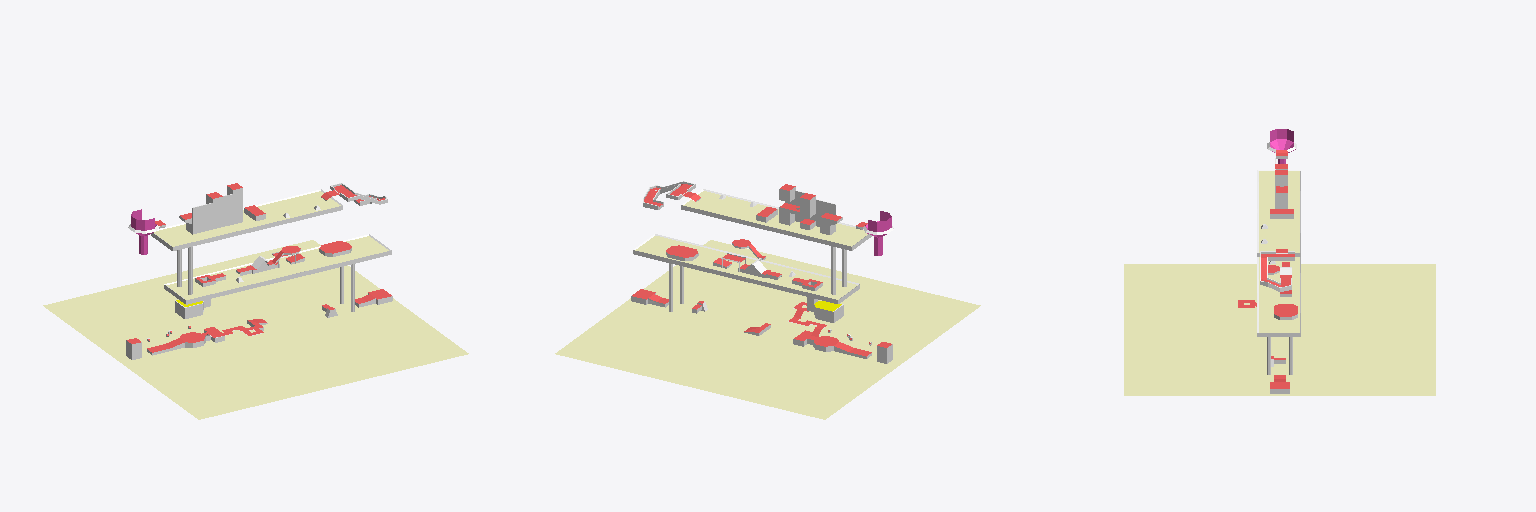
Rendered from Bowser's Fire Sea Area 1.obj.
3 renders of one model, left to right at view 1: azimuth 30°, elevation 25°; view 2: azimuth 150°, elevation 25°; view 3: azimuth 270°, elevation 25°, orthographic.
Bounding box in the file's own units: 32766 × 17098 × 32766.